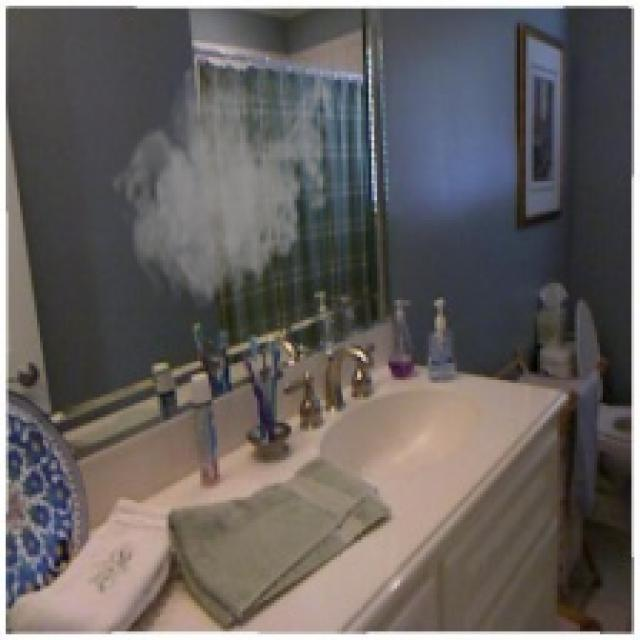Smoke: (108, 31, 340, 312)
